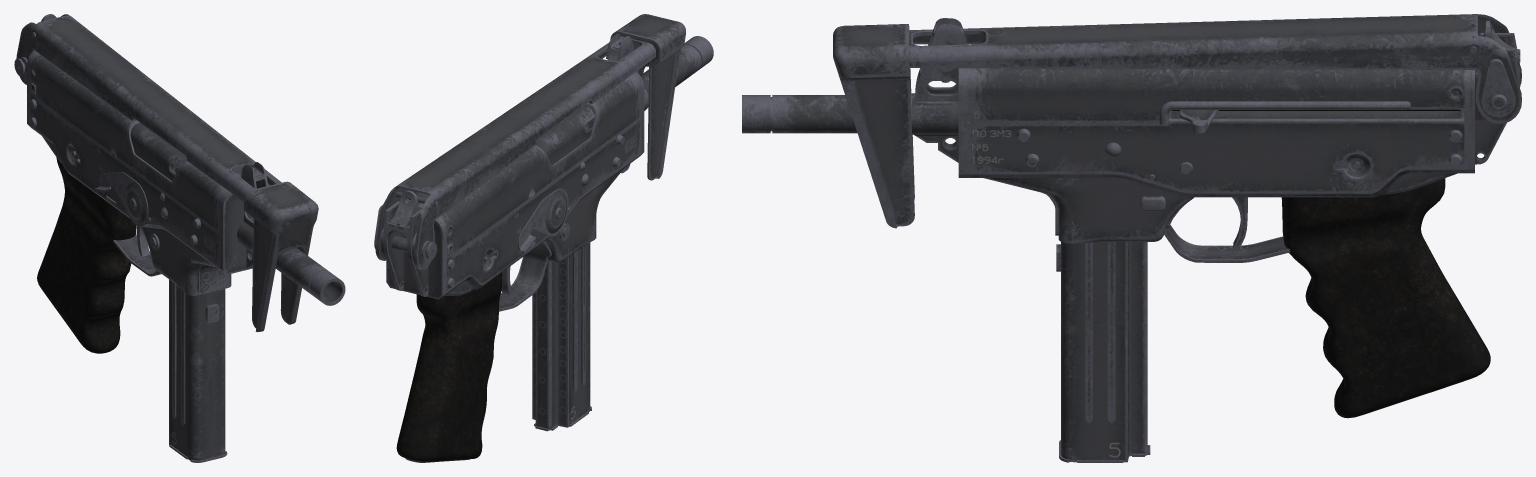
File: pp-91_kedr_machine_pistol_midpoly_gameready.glb
The picture shows the model from 3 angles, left to right: view 1: azimuth 30°, elevation 25°; view 2: azimuth 150°, elevation 25°; view 3: azimuth 270°, elevation 25°; orthographic projection. The views are drawn at different scales.
Visible parts, largest first — view 1: priklad1_low, ruchka_low, magazin_low, mainniz_low, mainverh_low, celic5_low, stvol_low, piston_low, sec_plate_low, plate2_low, plate1_low; view 2: priklad1_low, ruchka_low, magazin_low, mainniz_low, mainverh_low, priklad4_low, piston_low, plate2_low, sec_plate_low, stvol_low, celic5_low, celic2_low (+1 smaller); view 3: mainniz_low, priklad1_low, ruchka_low, mainverh_low, magazin_low, celic5_low, stvol_low, maindop_low, plate2_low, priklad4_low.
Part boxes in pixels (x1,y1,x2,y2): priklad1_low: (16, 14, 318, 332); ruchka_low: (37, 157, 136, 353); magazin_low: (169, 279, 227, 462); mainniz_low: (30, 91, 231, 295); mainverh_low: (30, 52, 242, 231); celic5_low: (219, 162, 270, 274); stvol_low: (275, 247, 345, 305); piston_low: (130, 123, 187, 180); sec_plate_low: (94, 172, 148, 226); plate2_low: (113, 234, 161, 276); plate1_low: (197, 264, 228, 293); priklad1_low: (374, 14, 685, 270); ruchka_low: (396, 272, 502, 462); magazin_low: (532, 242, 591, 431); mainniz_low: (443, 116, 640, 296); mainverh_low: (417, 75, 640, 257); priklad4_low: (383, 201, 445, 299); piston_low: (536, 105, 594, 165); plate2_low: (499, 241, 551, 311); sec_plate_low: (518, 188, 568, 251); stvol_low: (640, 36, 713, 94); celic5_low: (606, 33, 648, 158); celic2_low: (389, 190, 419, 229); mainniz_low: (967, 111, 1467, 243); priklad1_low: (833, 14, 1521, 228); ruchka_low: (1281, 178, 1490, 418); mainverh_low: (967, 68, 1467, 123); magazin_low: (1056, 242, 1150, 462); celic5_low: (910, 18, 967, 177); stvol_low: (742, 95, 857, 133); maindop_low: (1159, 101, 1410, 124); plate2_low: (1164, 204, 1290, 262); priklad4_low: (1467, 33, 1520, 173).
Size of what is drawn, in the model's own units: 0.0927 by 0.3431 by 0.5614.
Materials: 2 (2 with a texture image).
